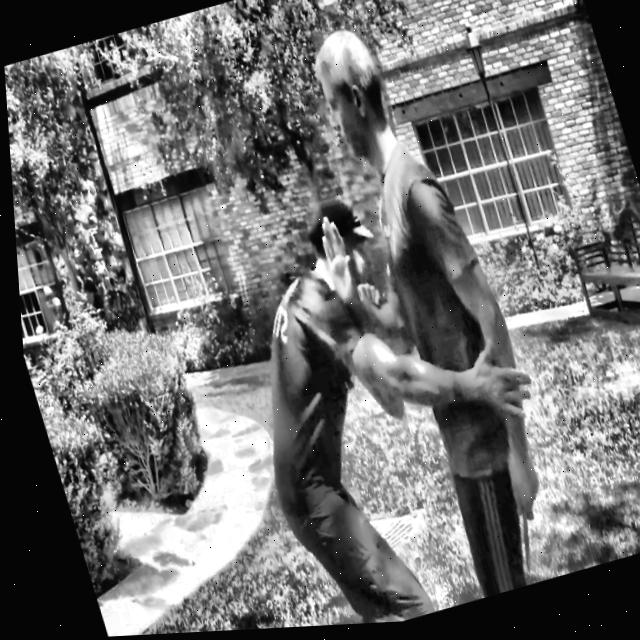pisau: (512, 509, 533, 583)
robbery: (258, 21, 544, 624)
